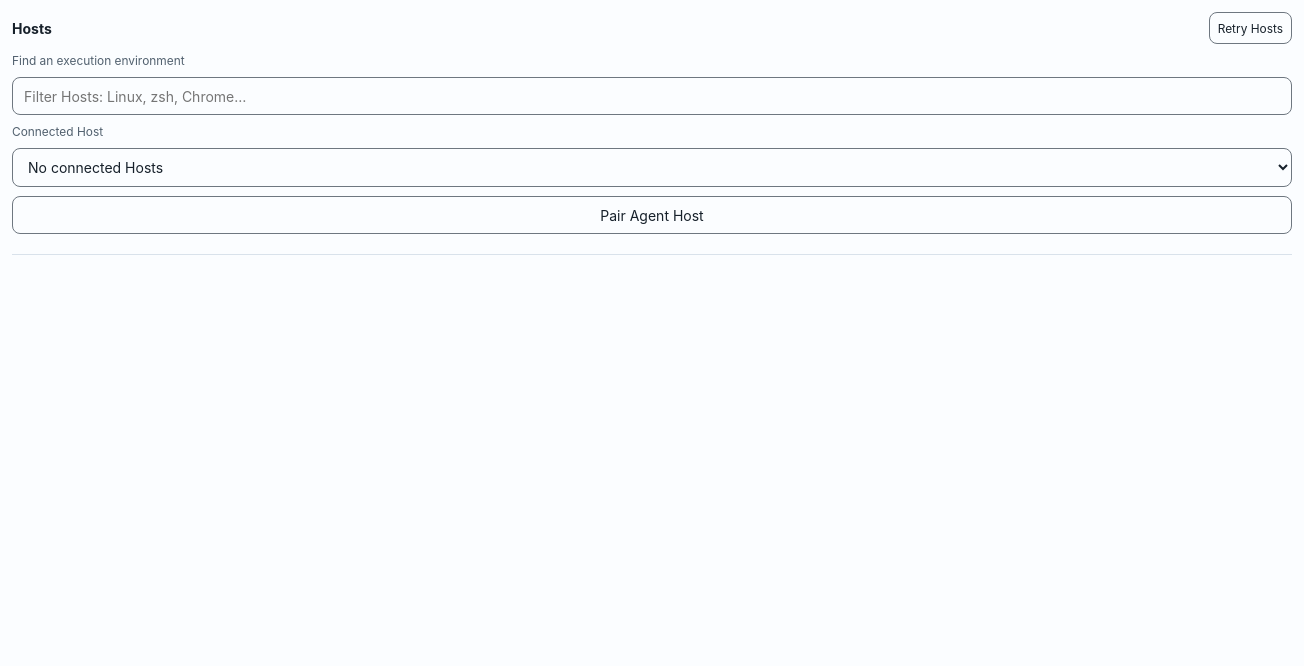
Test: waits for a real pairing URL when a diagnostic service has no server metadata
Click the button "Pair Agent Host": x=652, y=215 [12,196,1292,234]
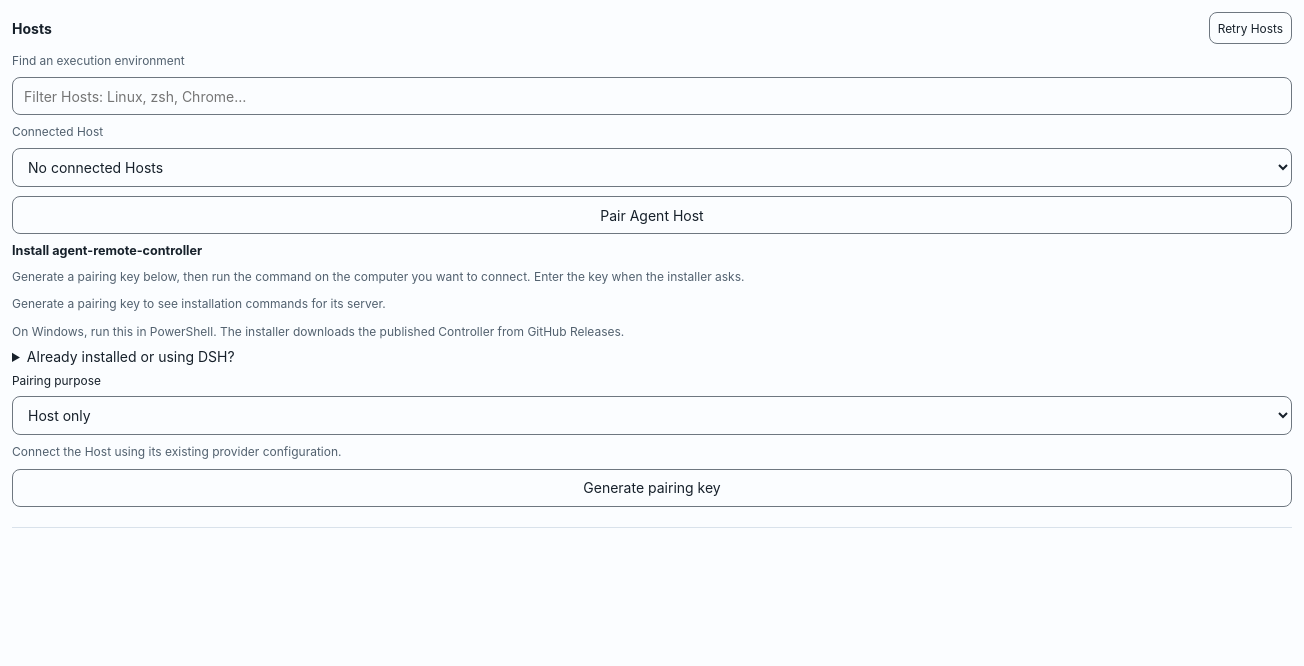
Expected: the text "Generate a pairing key to see installation commands for its server." is shown, [12,296,386,311]
Click the button "Generate pairing key": x=652, y=488 [12,469,1292,507]
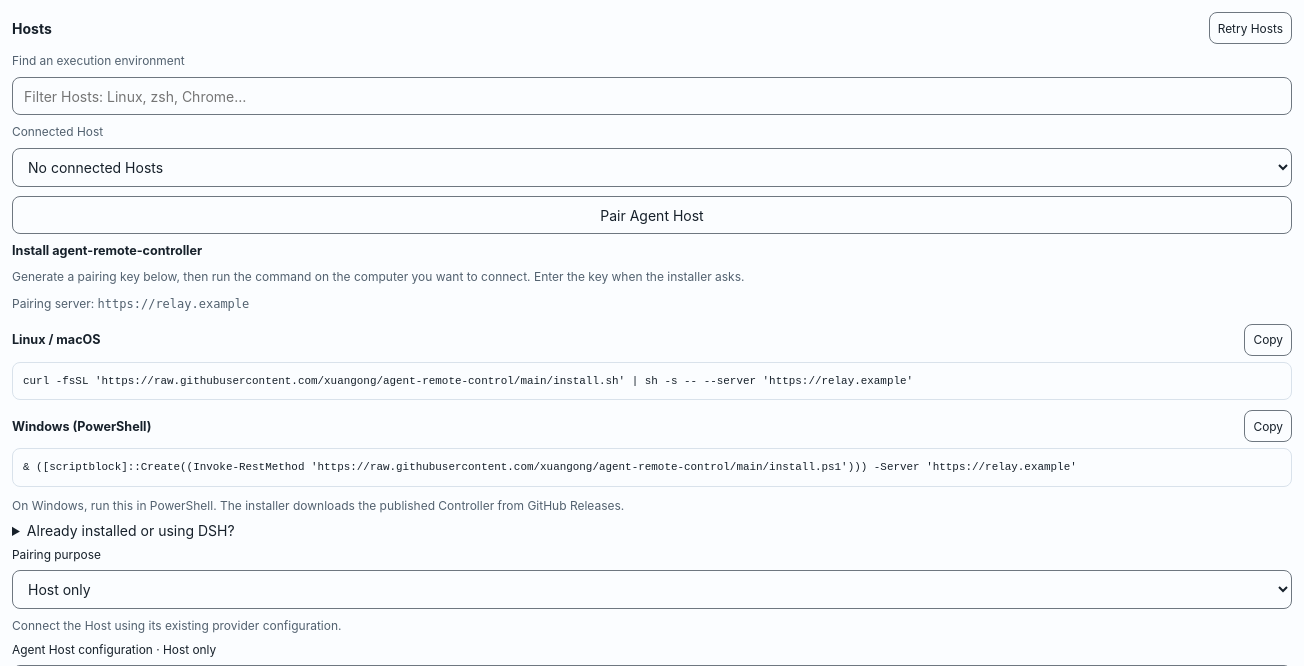
Expected: the element named "Linux / macOS install command" shows "--server 'https://relay.example'", [23,375,913,387]
